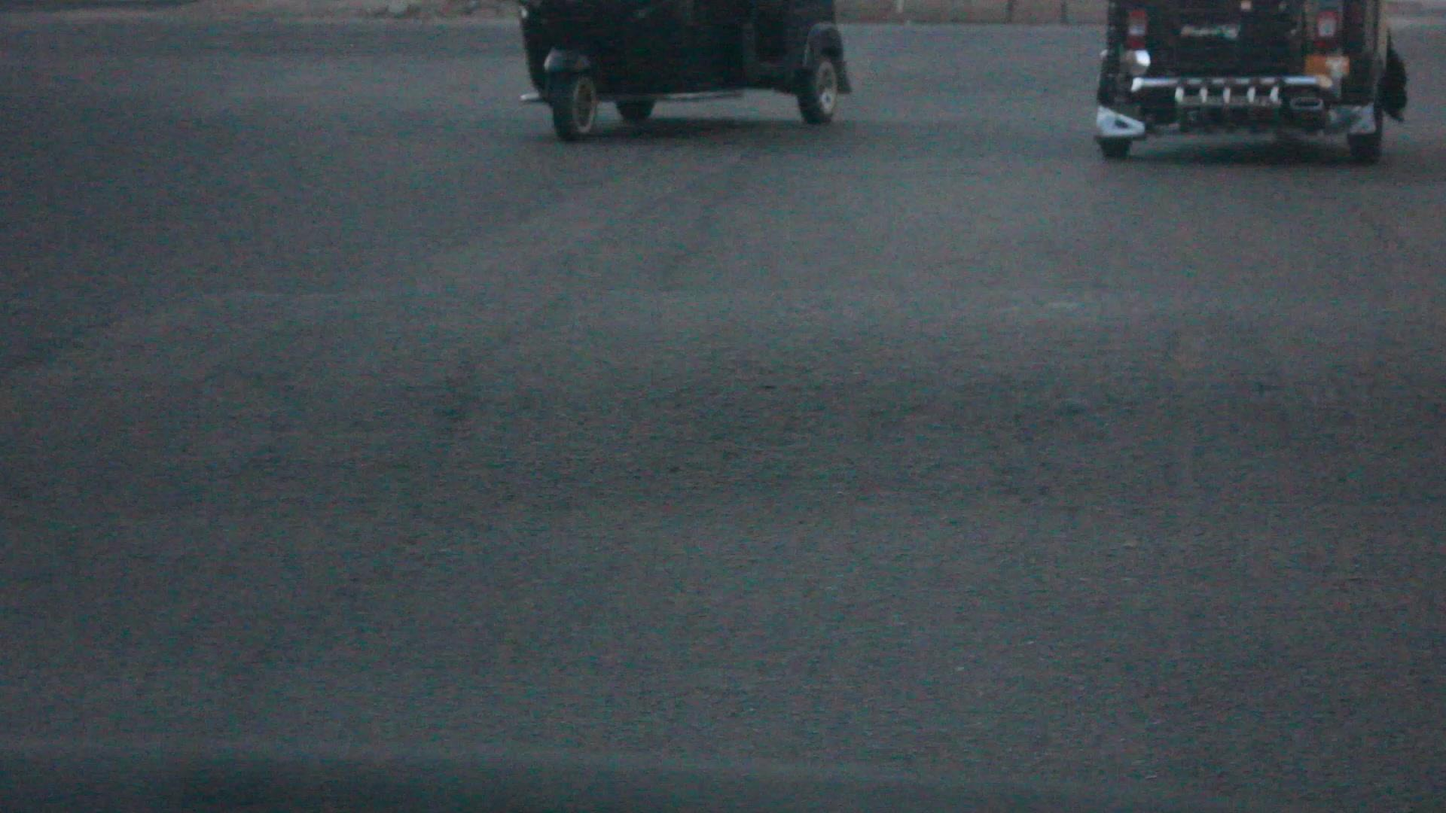Bump: (397, 320, 1446, 570)
